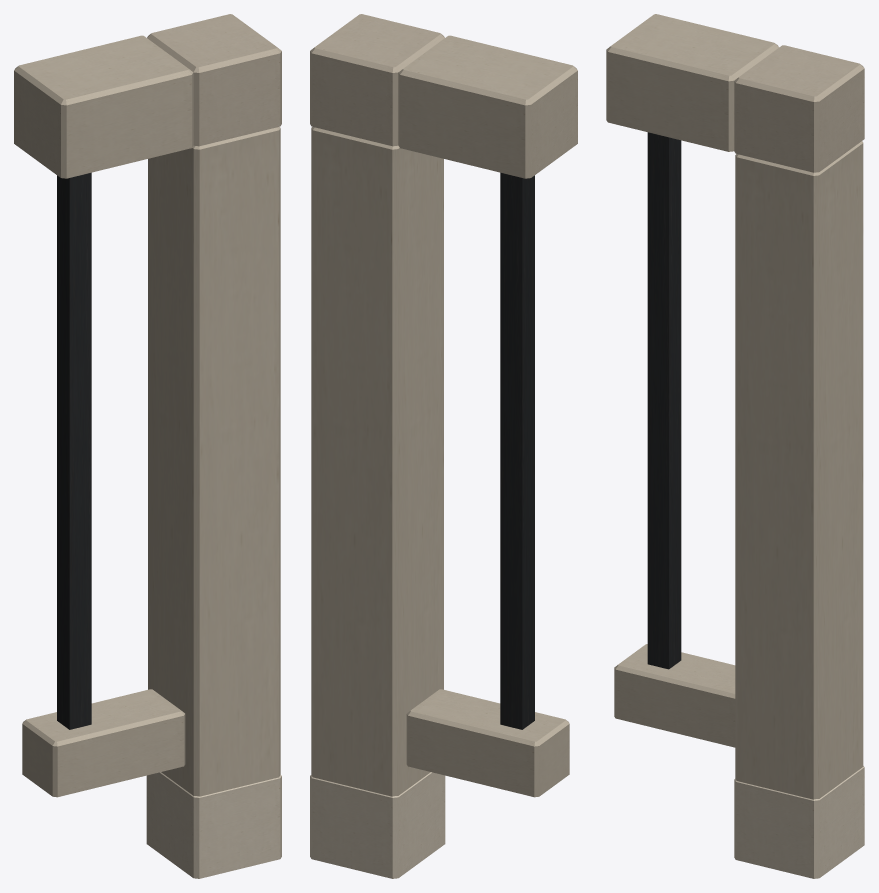
File: porch_railing_end.glb
3 views of the same model, side by side, from view 1: azimuth 30°, elevation 25°; view 2: azimuth 150°, elevation 25°; view 3: azimuth 330°, elevation 25° (orthographic). The views are drawn at different scales.
Parts seen in each view (by area): view 1: outdoor_porch_railing_end; view 2: outdoor_porch_railing_end; view 3: outdoor_porch_railing_end.
Part boxes in pixels (left/top/right/bottom): outdoor_porch_railing_end: left=14, top=14, right=281, bottom=878; outdoor_porch_railing_end: left=310, top=14, right=577, bottom=878; outdoor_porch_railing_end: left=606, top=14, right=864, bottom=878.
Size of the model in its own units: 0.3 by 1.05 by 0.12.
2 materials, 2 textured.
